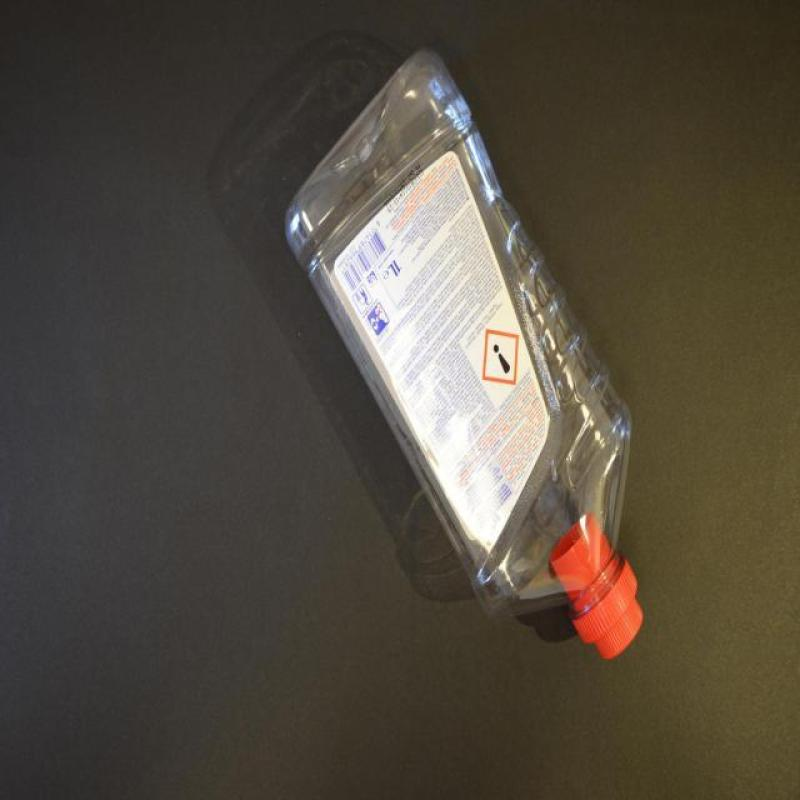botella: (285, 49, 645, 659)
